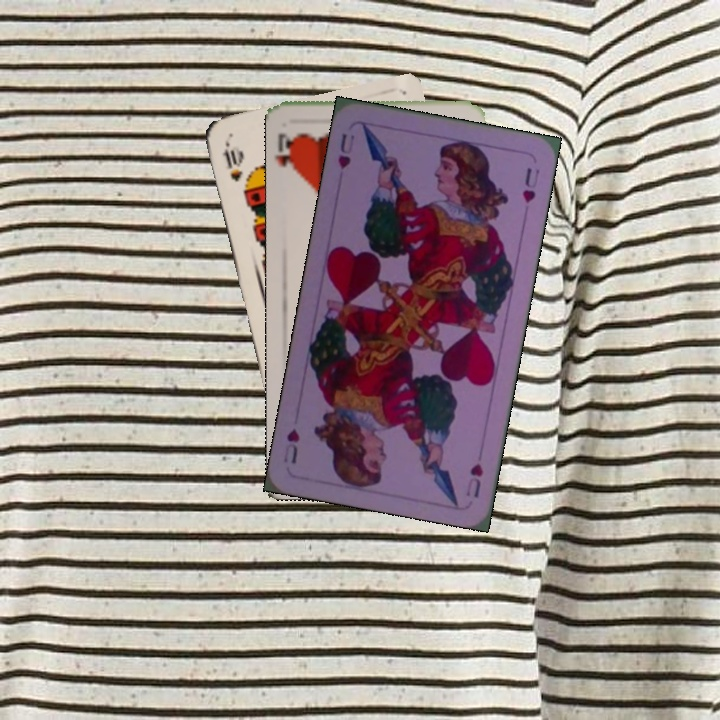HO: (272, 129, 299, 176)
HU: (333, 129, 358, 172), (462, 459, 486, 500)
S10: (219, 138, 245, 184)
